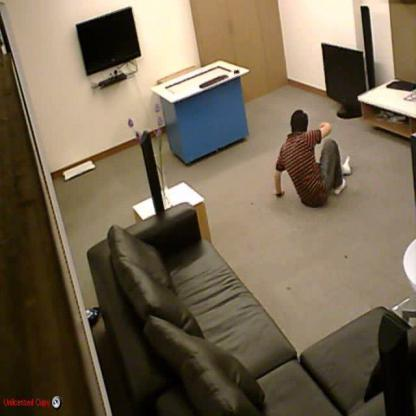Person: (274, 110, 346, 207)
